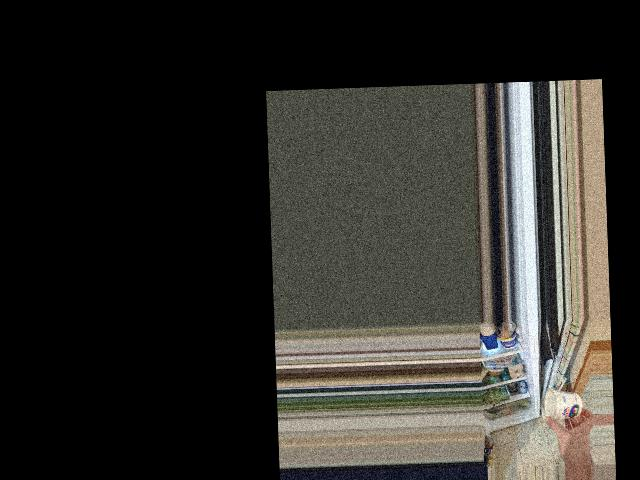cotage: (541, 387, 586, 422)
